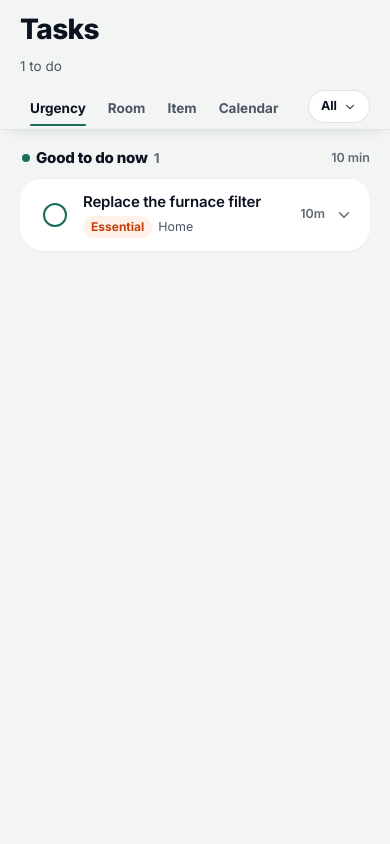
Tasks — the swipe uses the same bar › swipe right is Done, with 'Done · next due' and Undo
Expected: the text "Replace the furnace filter" is shown, [83, 192, 290, 212]
Press the mouse on the element showing "Replace the furnace filter Essential Home" at (172, 201), box [83, 192, 290, 238]
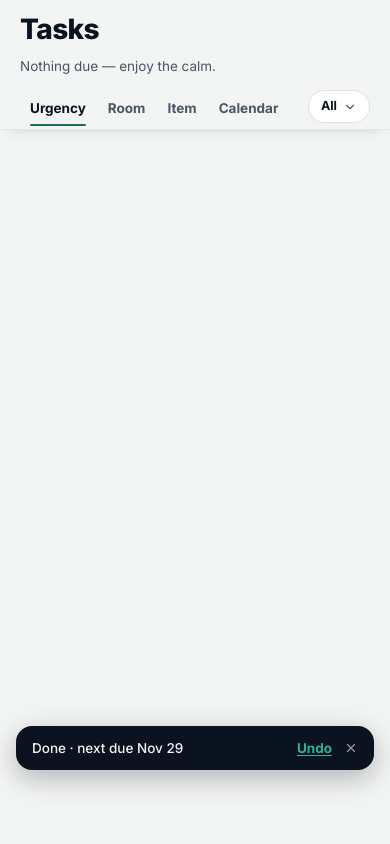
Expected: the button "Undo" is shown, [297, 738, 332, 758]
